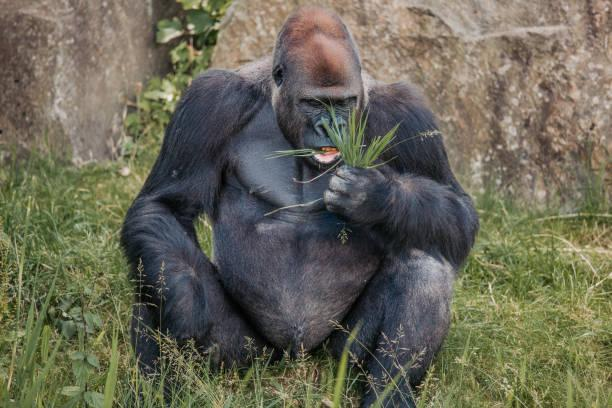gorille_Autres: (118, 0, 472, 378)
